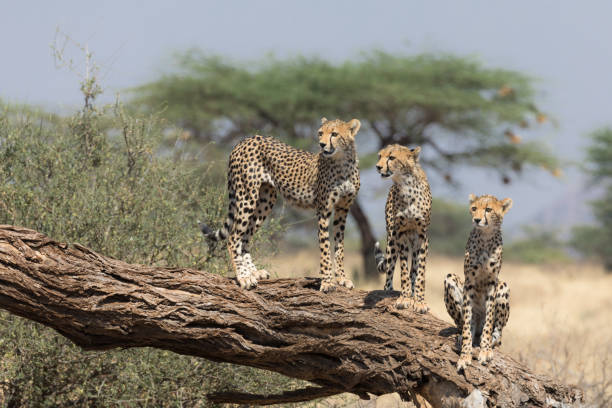cheetah: (457, 185, 519, 243), (309, 107, 366, 167), (373, 141, 427, 186)
